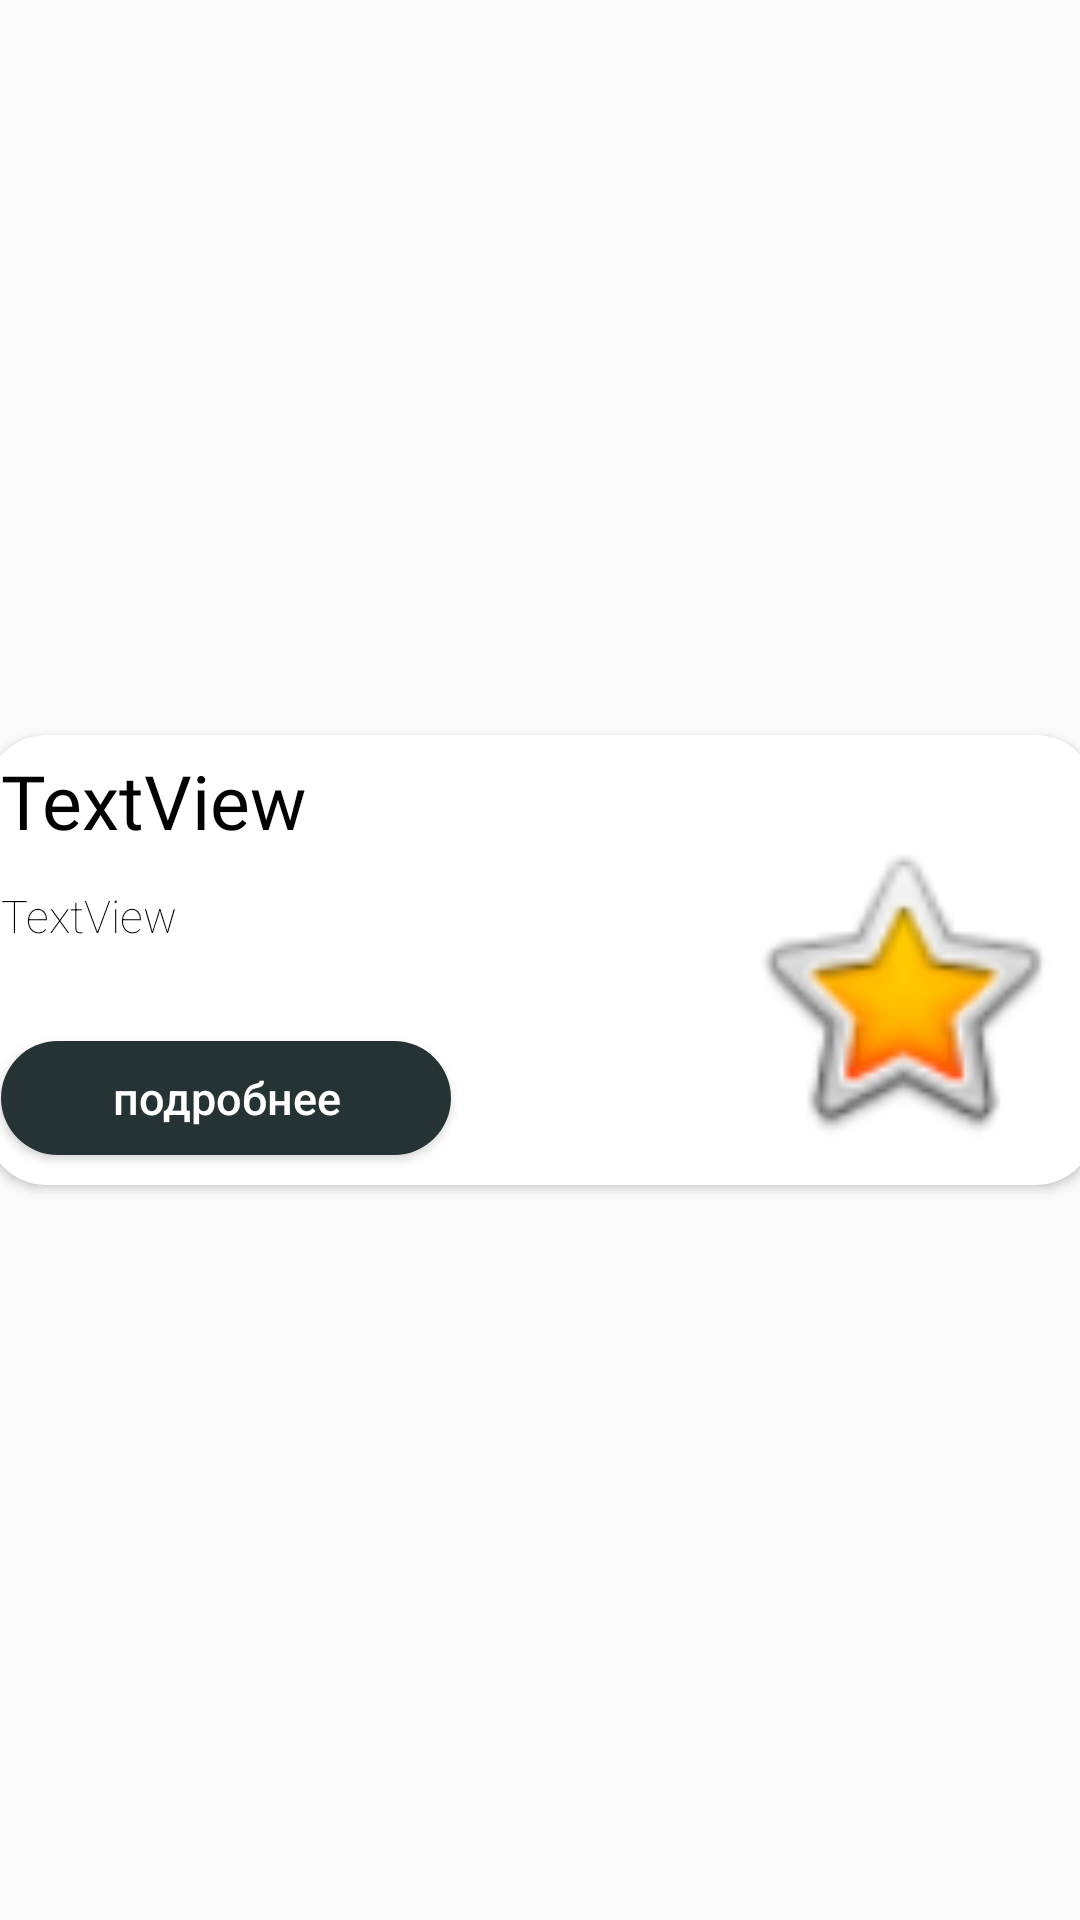

Screen size 1080 × 1920. Icon name, then its center in pixels as (x,y):
star on: (904,992)
